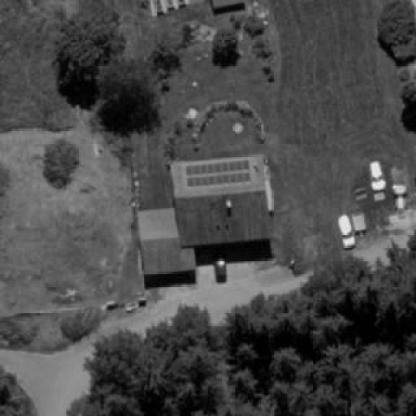solar-pv-panel: (186, 159, 251, 187)
